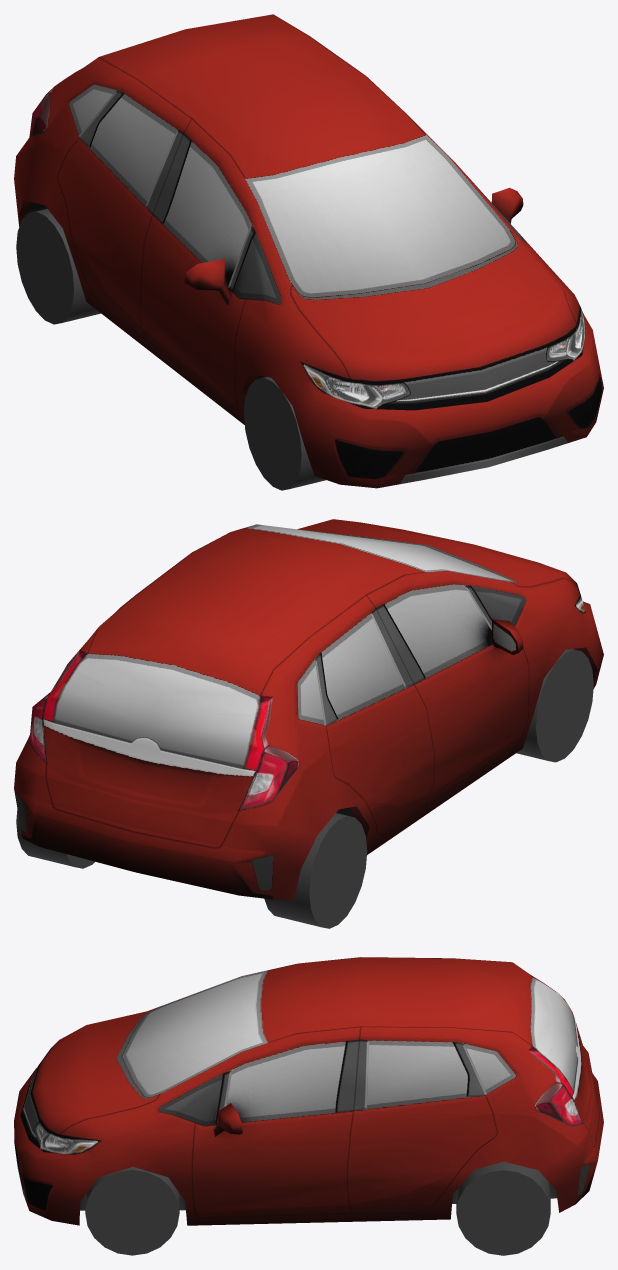
File: gz-hatchback-red.glb
The picture shows the model from 3 angles, top to bottom: view 1: azimuth 30°, elevation 25°; view 2: azimuth 150°, elevation 25°; view 3: azimuth 270°, elevation 25°; orthographic projection. The views are drawn at different scales.
Parts seen in each view (by area): view 1: object 1, wheel_rr, wheel_fr; view 2: object 1, wheel_rr, wheel_fr, wheel_rl; view 3: object 1, wheel_rl, wheel_fl.
Boxes of the visible parts, x1=… form: object 1: x1=14, y1=14, x2=603, y2=488; wheel_rr: x1=16, y1=208, x2=100, y2=324; wheel_fr: x1=244, y1=377, x2=326, y2=490; object 1: x1=14, y1=519, x2=603, y2=899; wheel_rr: x1=264, y1=813, x2=367, y2=928; wheel_fr: x1=516, y1=649, x2=593, y2=762; wheel_rl: x1=16, y1=809, x2=94, y2=868; object 1: x1=14, y1=957, x2=603, y2=1225; wheel_rl: x1=456, y1=1161, x2=550, y2=1255; wheel_fl: x1=85, y1=1167, x2=179, y2=1255.
Size of the model in its own units: 2.14 by 1.57 by 4.
Materials: 2 (1 with a texture image).
